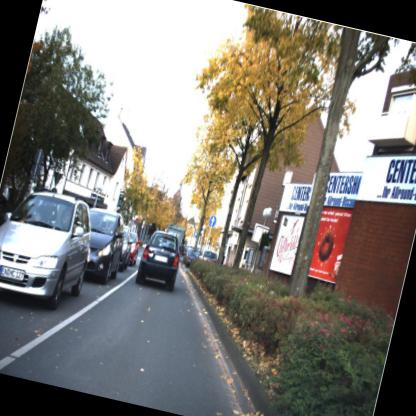mandatory: (206, 209, 221, 231)
